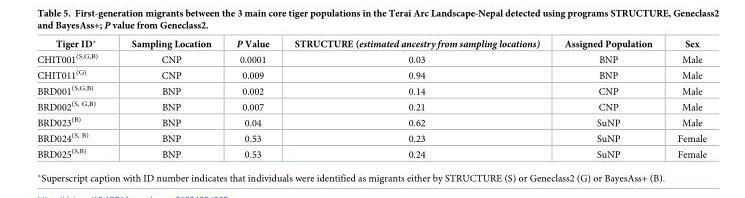table: (36, 37, 706, 159)
table column: (281, 37, 551, 159), (551, 37, 664, 159), (114, 37, 223, 159), (36, 37, 114, 159), (223, 37, 281, 159), (664, 37, 706, 159)
table column header: (36, 37, 706, 51)
table row: (36, 66, 706, 82), (36, 82, 706, 98), (36, 113, 706, 129), (36, 129, 706, 145), (36, 51, 706, 66), (36, 98, 706, 113), (36, 37, 706, 51), (36, 145, 706, 159)
